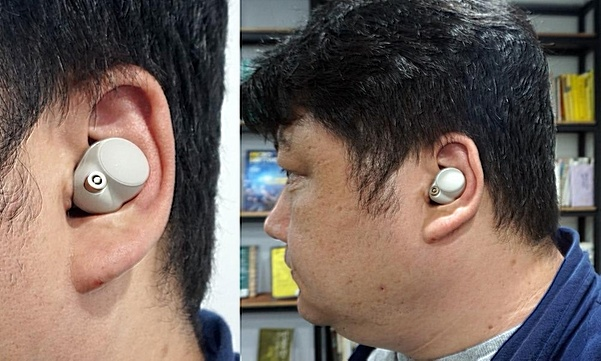earphone: (61, 64, 177, 292), (421, 133, 485, 244)
